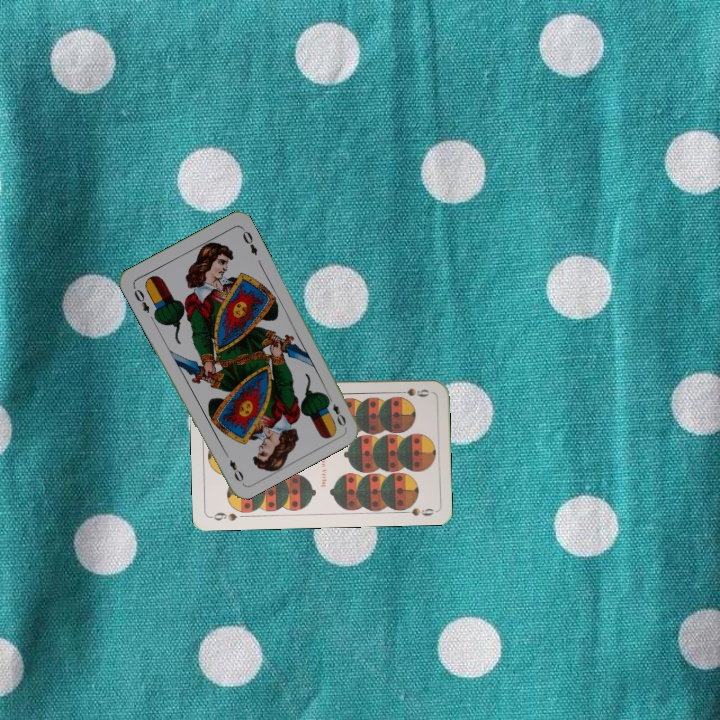EO: (323, 391, 349, 429), (129, 282, 152, 316)
S9: (392, 384, 431, 399), (207, 509, 240, 524)
